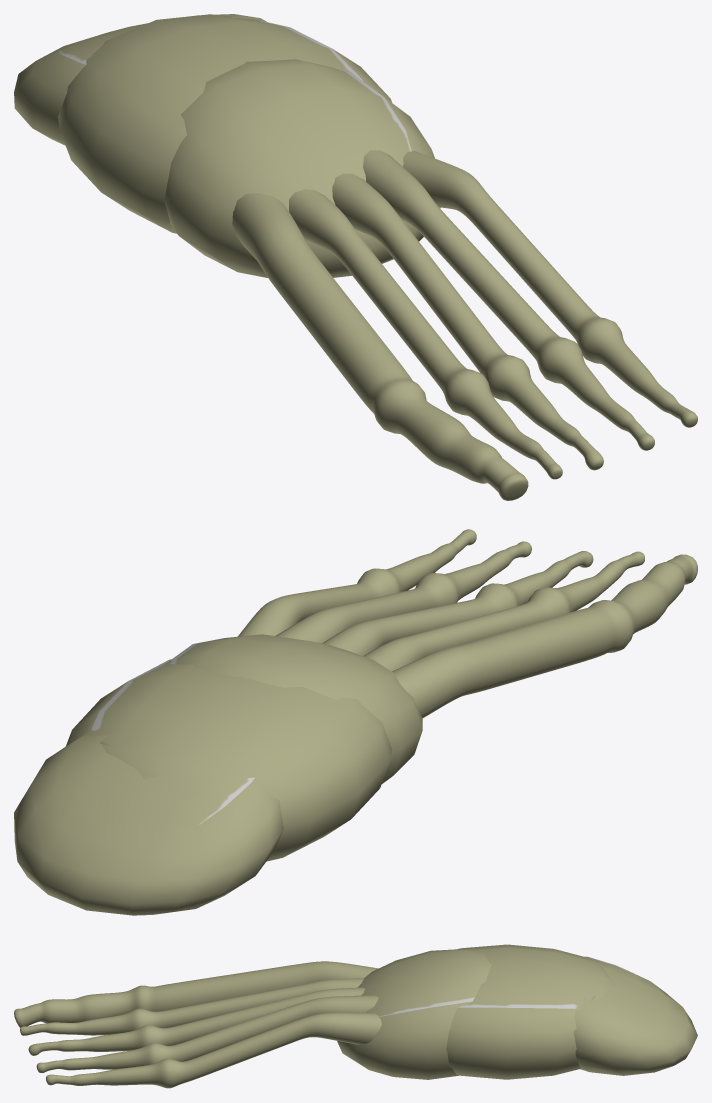
File: Foot.left1.glb
3 views of the same model, one above another, from view 1: azimuth 30°, elevation 25°; view 2: azimuth 150°, elevation 25°; view 3: azimuth 270°, elevation 25° (orthographic). The views are drawn at different scales.
Parts seen in each view (by area): view 1: Dup foot.l; view 2: Dup foot.l; view 3: Dup foot.l.
Boxes of the visible parts, left/top/right/bottom form: Dup foot.l: left=14, top=14, right=697, bottom=500; Dup foot.l: left=14, top=529, right=697, bottom=915; Dup foot.l: left=14, top=944, right=697, bottom=1088.
Bounding box in the file's own units: 0.2401 × 0.1331 × 0.7933.
1 material, 1 textured.
